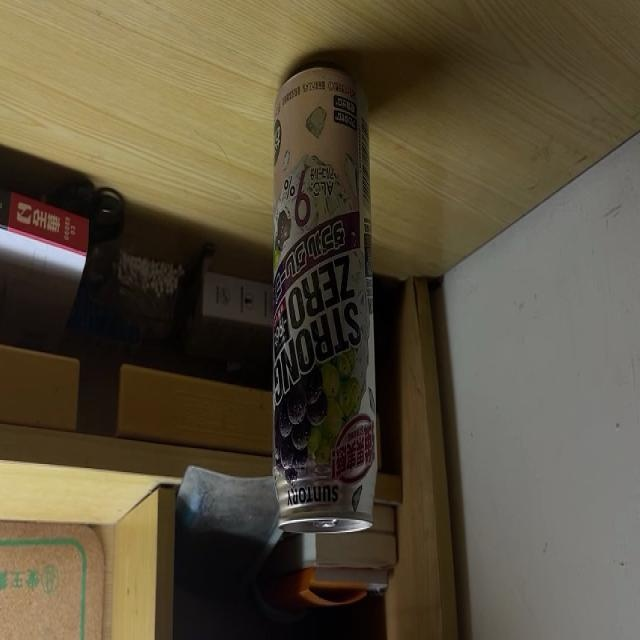Liquor: (270, 65, 378, 538)
